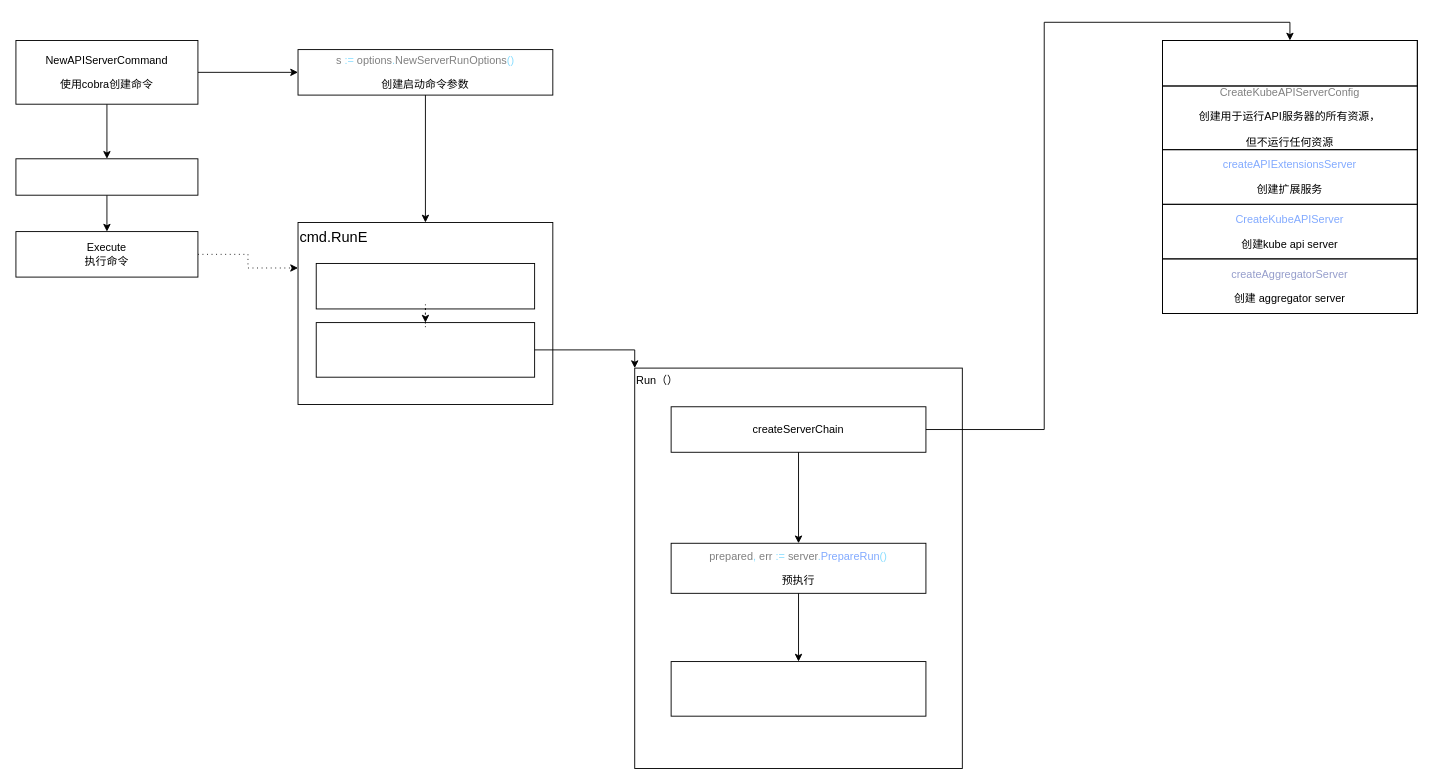
Image size: 1433x784. Some labels were removed from this diagram. Here are the shapes that lost their labels. From the top down, the centre of each, then its label:
point (1289, 63): CreateNodeDialer 配置node连接传输（云服务ssh支持）
point (106, 176): logger init
point (425, 286): Complete ( s ) 默认值填充
point (425, 349): 启动 Run()
point (798, 688): prepared . Run ( stopCh ) 执行
